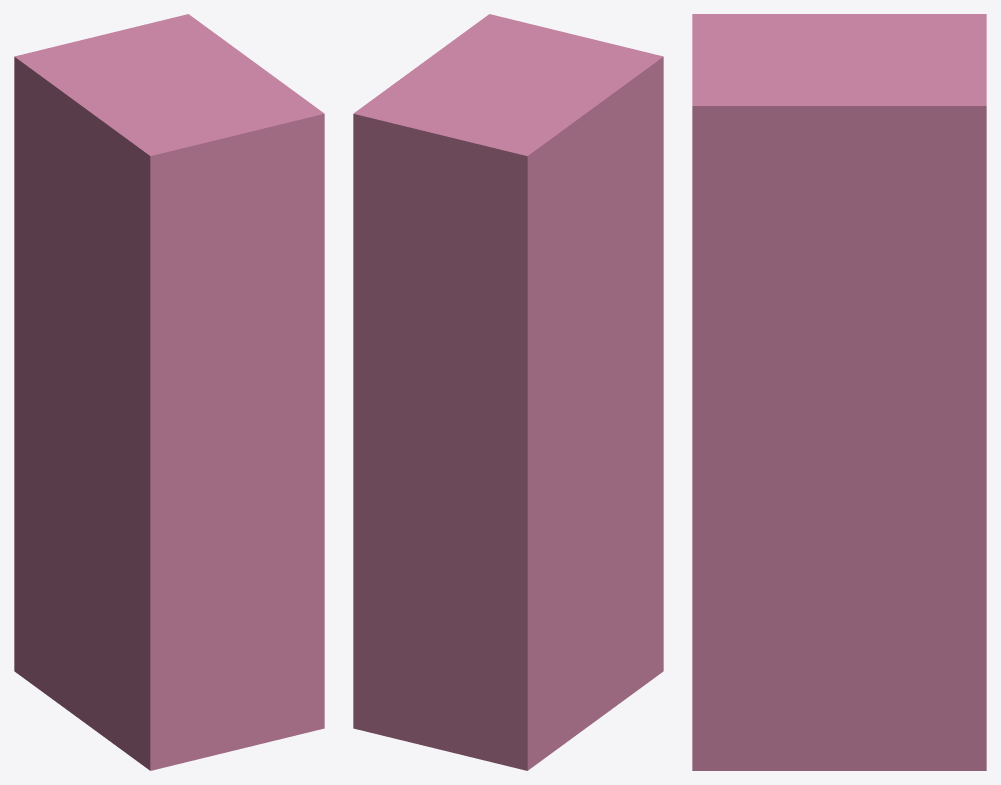
The model's file is tree_oak_forest_a.dae.
The picture shows the model from 3 angles, left to right: view 1: azimuth 30°, elevation 25°; view 2: azimuth 150°, elevation 25°; view 3: azimuth 270°, elevation 25°; orthographic projection. The views are drawn at different scales.
Parts seen in each view (by area): view 1: Untitled; view 2: Untitled; view 3: Untitled.
Part boxes in pixels (<box>): Untitled: <box>14,14,324,770</box>; Untitled: <box>353,14,663,770</box>; Untitled: <box>692,14,986,770</box>.
Size of the model in its own units: 6.18 by 8.37 by 20.85.
